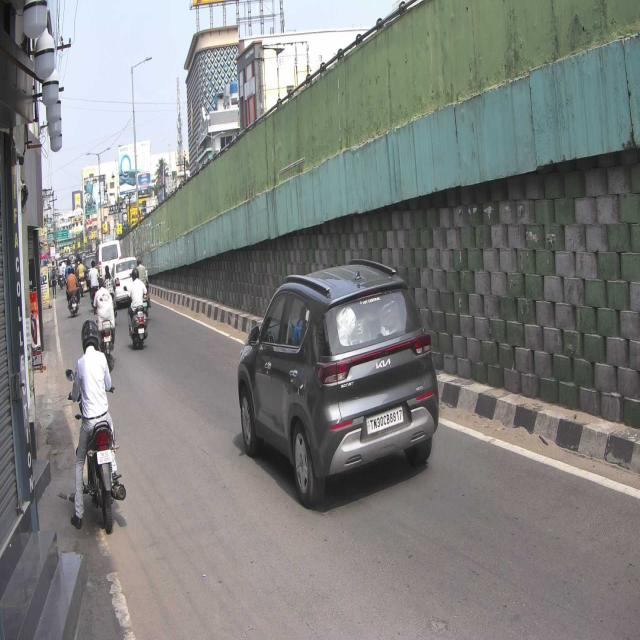single_rider: (70, 317, 124, 536)
